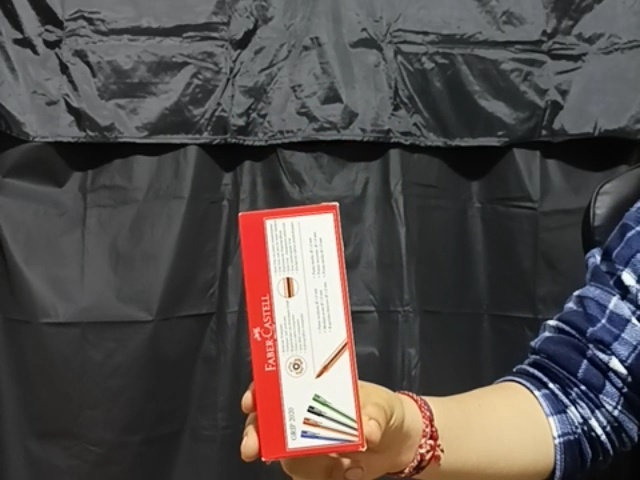xd: (233, 200, 368, 459)
